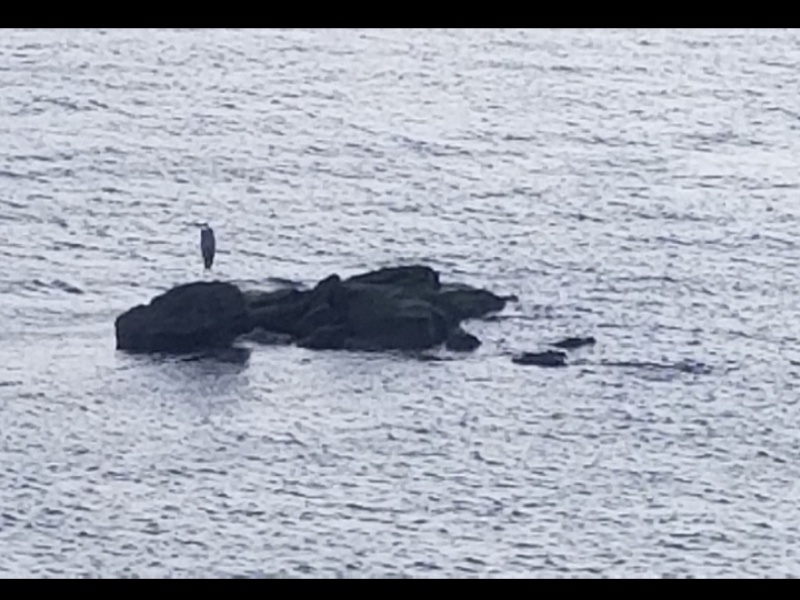heron: (183, 217, 220, 282)
